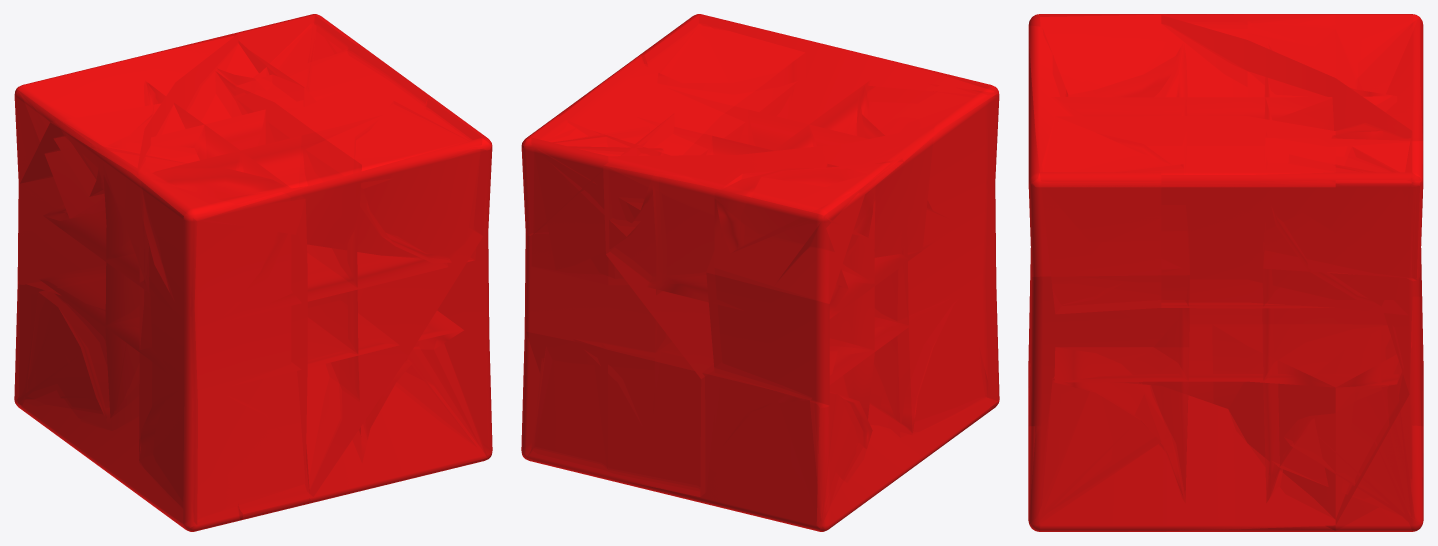
The model's file is Jelly.fbx.
3 views of the same model, side by side, from view 1: azimuth 30°, elevation 25°; view 2: azimuth 150°, elevation 25°; view 3: azimuth 270°, elevation 25° (orthographic). The views are drawn at different scales.
Parts seen in each view (by area): view 1: Jelly_Cube, shard4, shard7, shard3, shard2, shard6, shard5, shard1, shard8; view 2: Jelly_Cube, shard5, shard7, shard3, shard1, shard6, shard2, shard4, shard8; view 3: Jelly_Cube, shard2, shard3, shard1, shard6, shard4, shard7, shard5.
Boxes of the visible parts, x1,y1,x2,y2 form: Jelly_Cube: [14, 14, 492, 531]; shard4: [139, 14, 491, 531]; shard7: [14, 103, 306, 523]; shard3: [55, 15, 481, 528]; shard2: [217, 14, 492, 520]; shard6: [17, 14, 315, 291]; shard5: [14, 81, 264, 417]; shard1: [253, 53, 487, 501]; shard8: [41, 280, 308, 530]; Jelly_Cube: [521, 14, 999, 531]; shard5: [527, 136, 903, 531]; shard7: [707, 82, 998, 531]; shard3: [532, 15, 999, 402]; shard1: [521, 124, 701, 496]; shard6: [523, 126, 933, 317]; shard2: [521, 25, 804, 351]; shard4: [526, 14, 986, 432]; shard8: [778, 324, 998, 517]; Jelly_Cube: [1028, 14, 1423, 531]; shard2: [1028, 116, 1421, 531]; shard3: [1029, 14, 1412, 314]; shard1: [1031, 137, 1423, 531]; shard6: [1162, 14, 1423, 277]; shard4: [1028, 41, 1412, 424]; shard7: [1055, 97, 1331, 119]; shard5: [1285, 18, 1423, 528].
Size of the model in its own units: 200 by 200 by 200.
